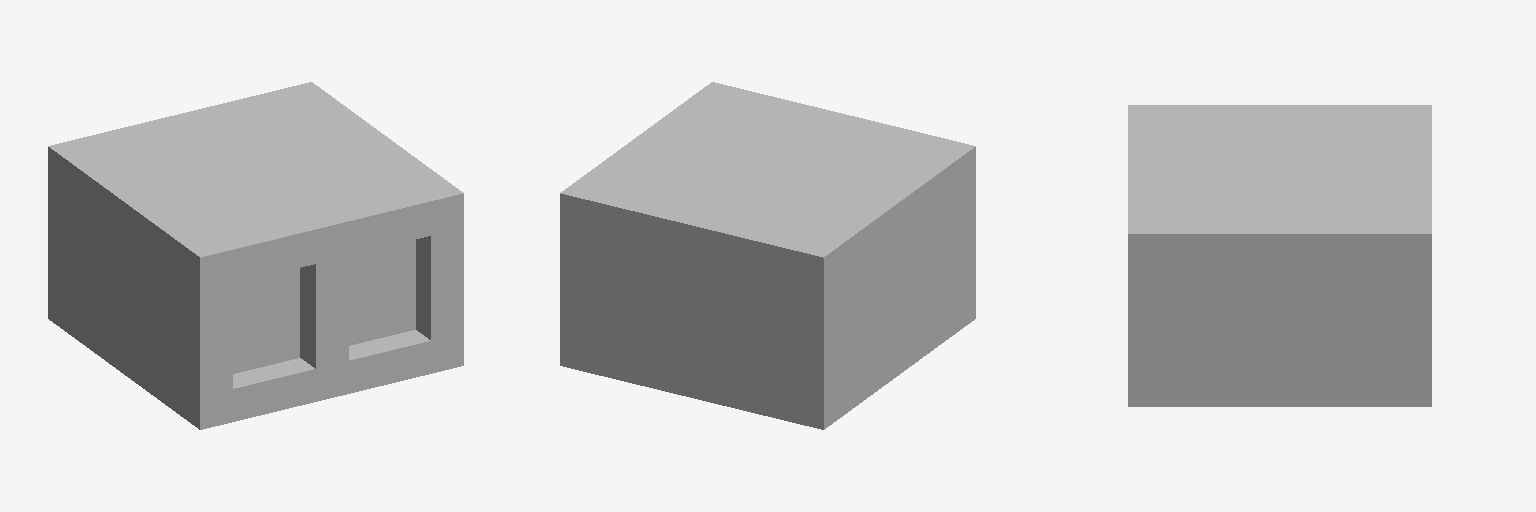
Rendered from building-windows.obj.
The picture shows the model from 3 angles: view 1: azimuth 30°, elevation 25°; view 2: azimuth 150°, elevation 25°; view 3: azimuth 270°, elevation 25°; orthographic projection.
Visible parts, largest first — view 1: building-windows; view 2: building-windows; view 3: building-windows.
Boxes of the visible parts, box(x1,y1,x2,y2) form: building-windows: box(48, 82, 463, 429); building-windows: box(560, 82, 975, 429); building-windows: box(1128, 105, 1431, 406).
Bounding box in the file's own units: 1 × 0.625 × 1.